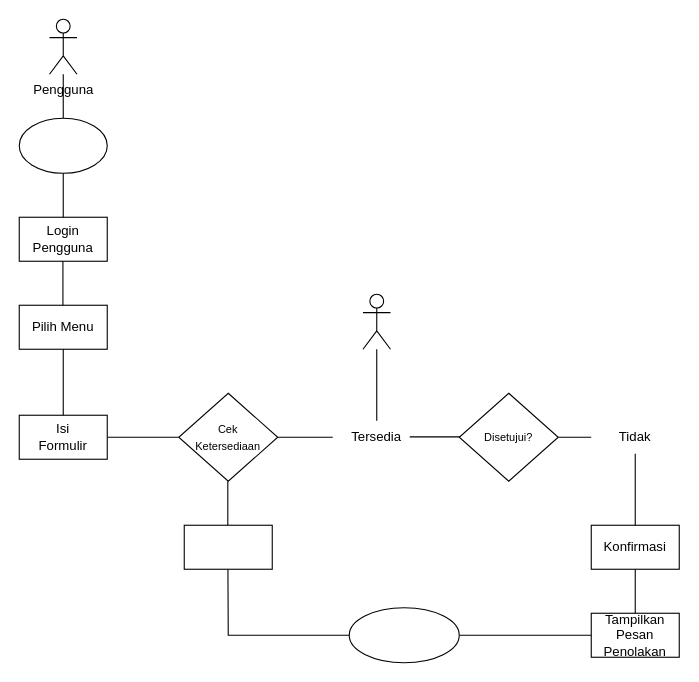
Image size: 699x682. Some labels were removed from this diagram. The centre of each missing label's shape, as x and y in pixels:
"Admin" belongs at [376,321].
"Kirim Permohonan" belongs at [227,546].
"Mulai" belongs at [62,145].
"Selesai" belongs at [403,635].
